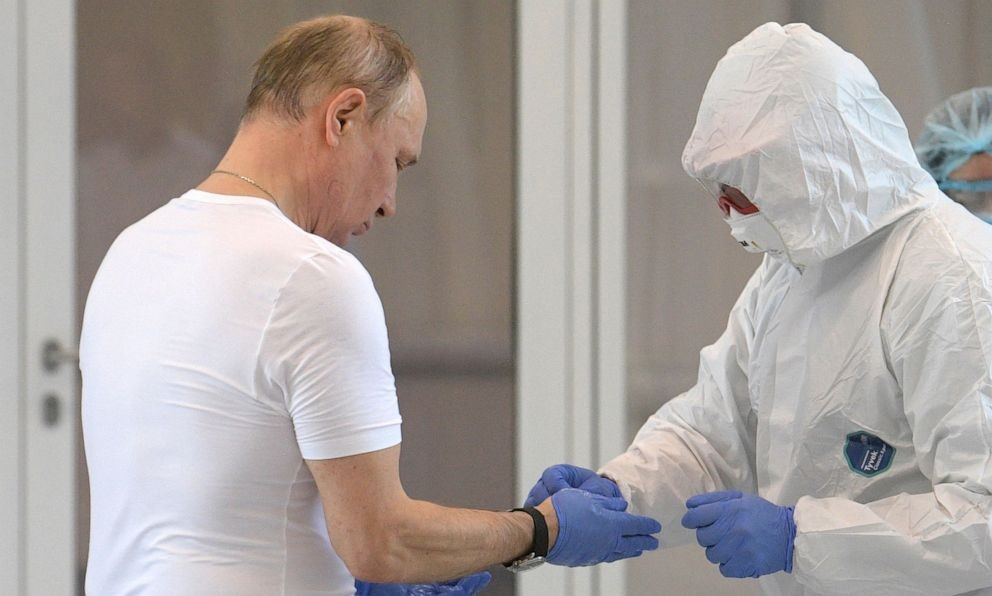Gloves: (679, 487, 796, 583), (543, 486, 665, 568), (519, 461, 623, 513)
with_mask: (709, 180, 795, 268)
without_mask: (321, 136, 422, 254)
